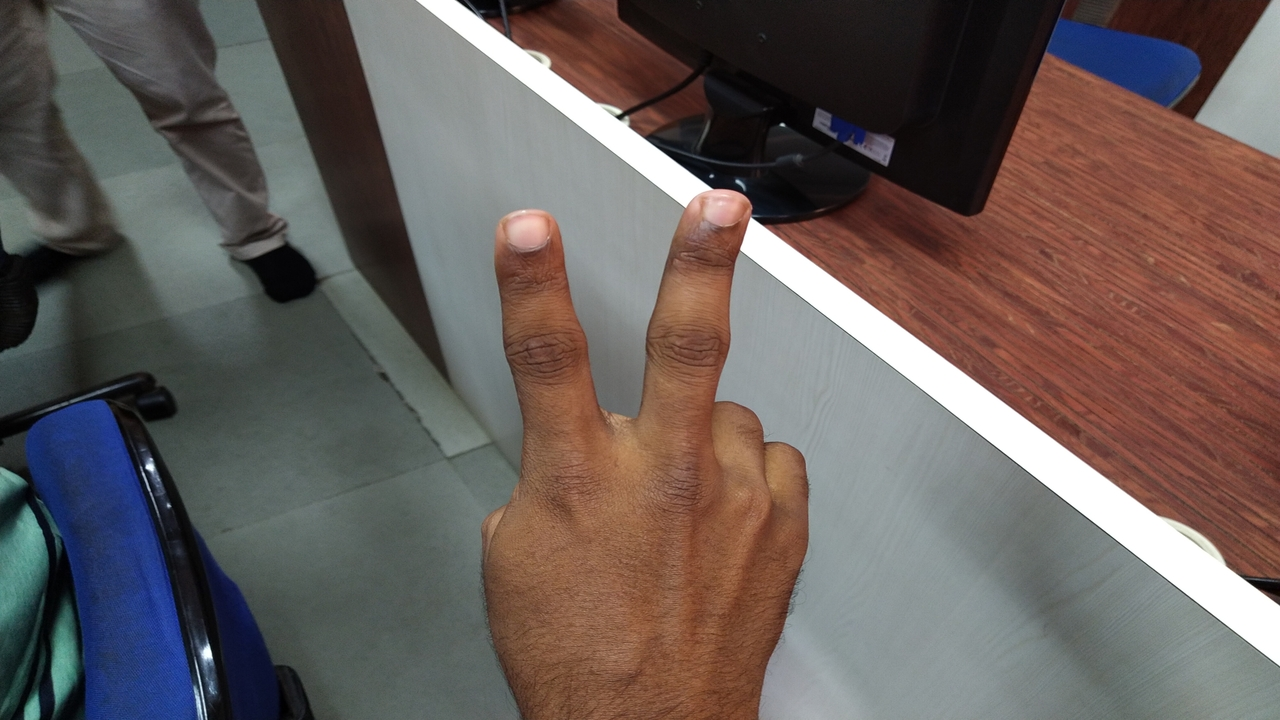fingertip: (486, 204, 566, 276), (680, 182, 758, 252)
